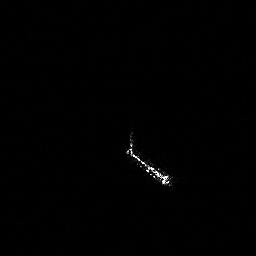ship: (127, 147, 171, 184)
